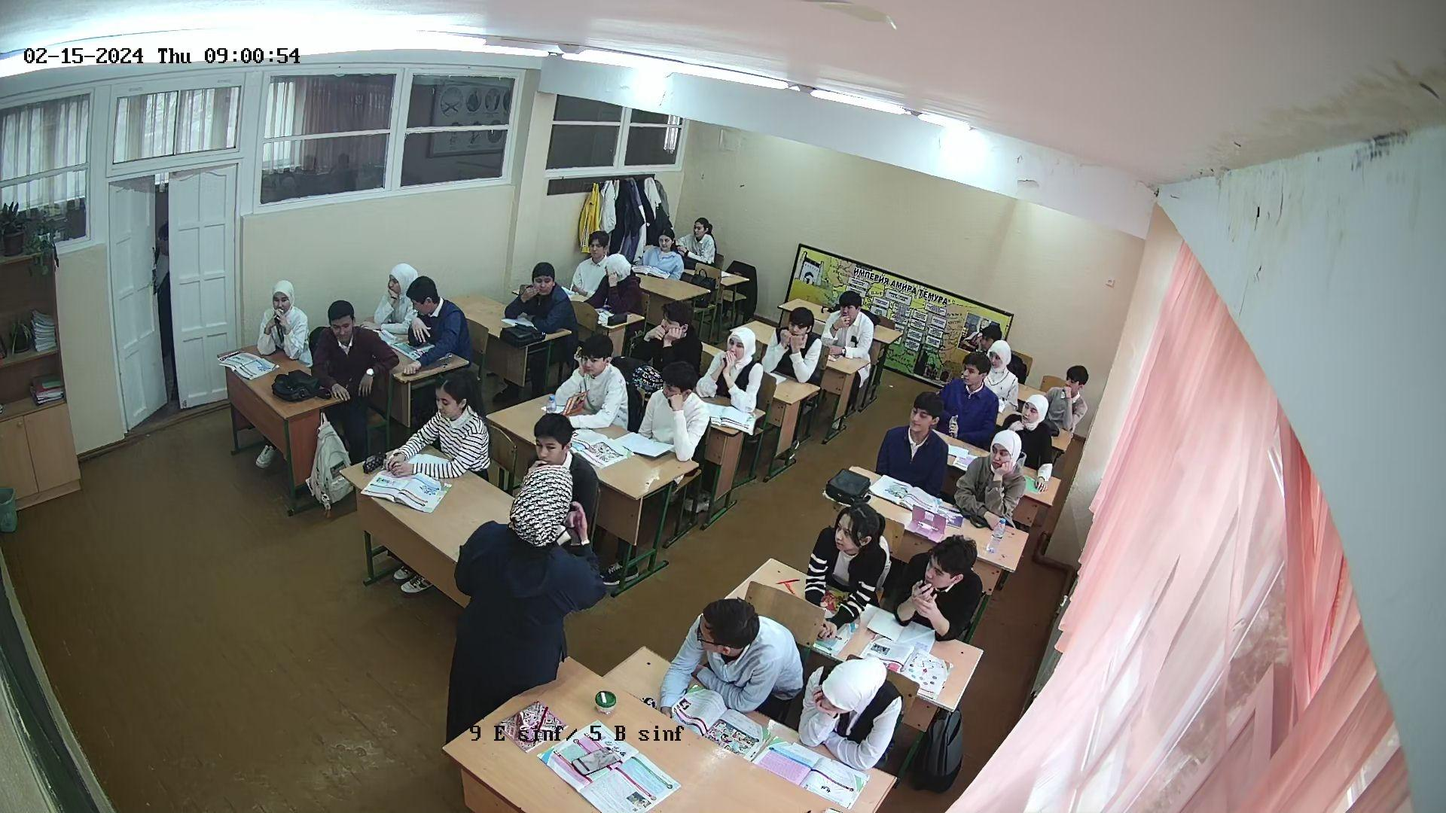Look Around: (314, 302, 371, 397)
Normal: (395, 374, 476, 481)
Stand Up: (471, 470, 574, 688)
